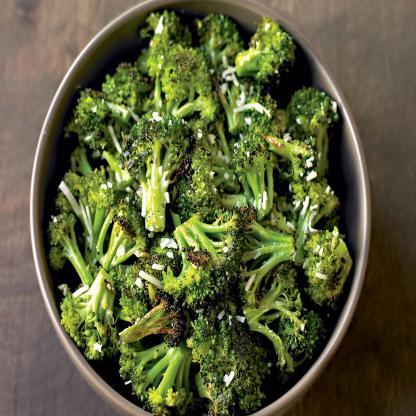broccoli: (48, 10, 355, 416)
